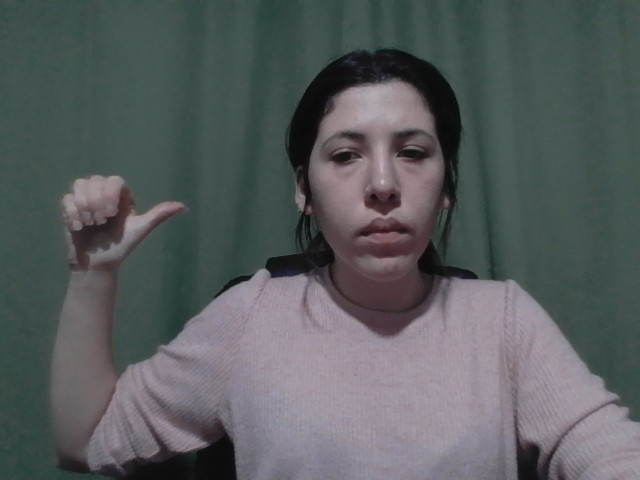CHAU: (54, 170, 190, 283)
